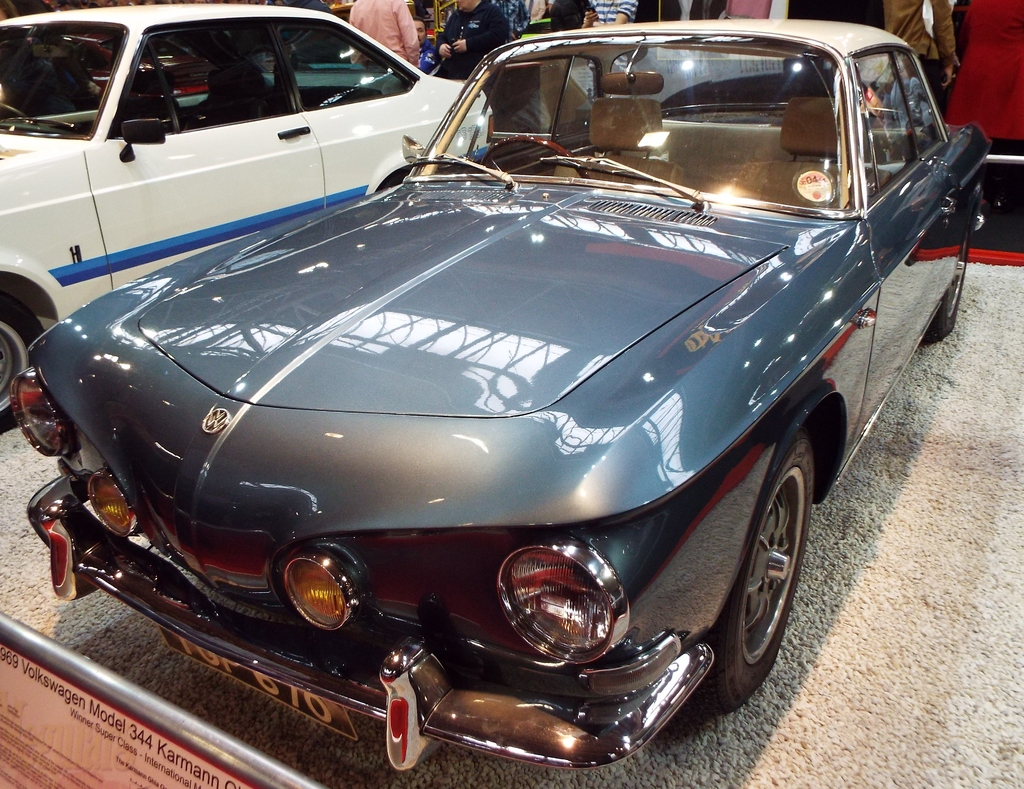Car: (18, 35, 950, 764), (0, 0, 481, 422)
